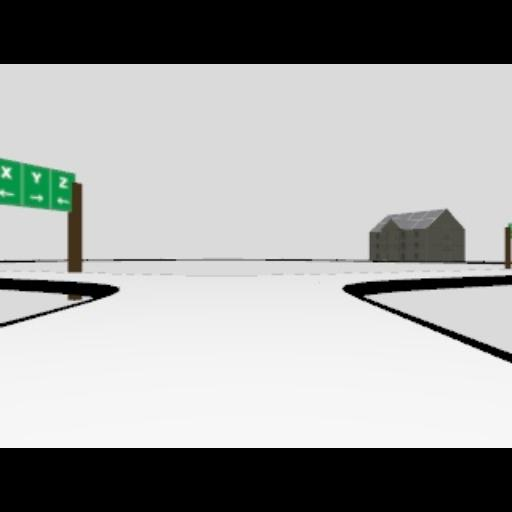Left: (1, 190, 15, 198), (56, 198, 68, 204)
Right: (30, 194, 44, 200)
X: (2, 166, 12, 178)
Y: (32, 171, 42, 183)
Z: (58, 177, 68, 189)
